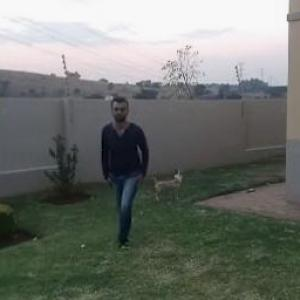follow: (102, 89, 155, 250)
